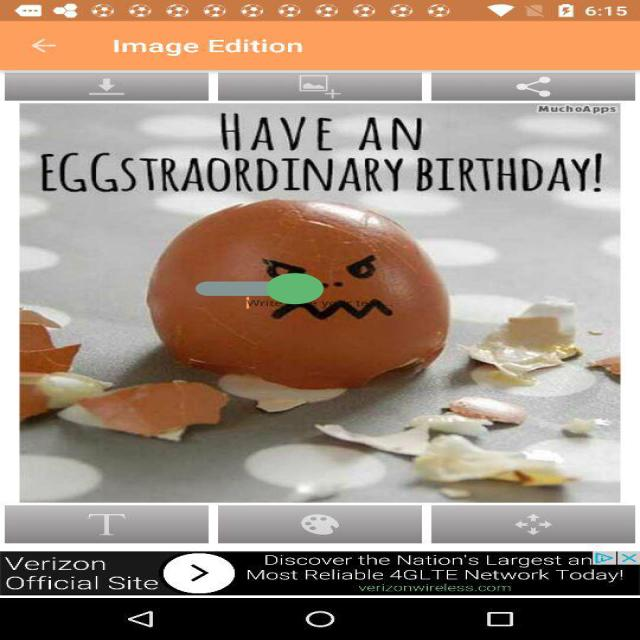social proof: (195, 254, 324, 323)
